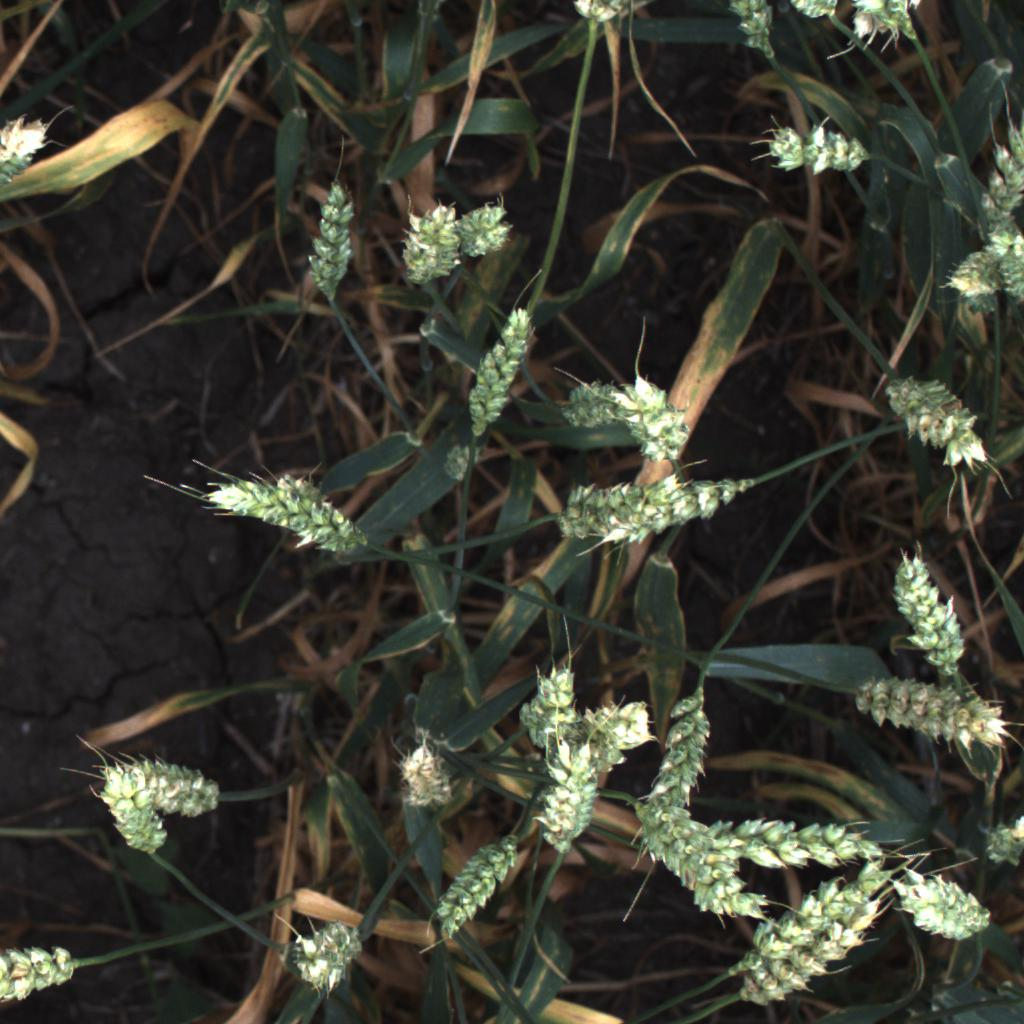0-0: (720, 865, 890, 985), (840, 663, 1022, 766), (633, 797, 766, 921), (739, 898, 881, 1012), (407, 821, 530, 945), (604, 469, 766, 549), (197, 476, 369, 551), (879, 540, 969, 680), (457, 296, 542, 440), (548, 471, 700, 551), (883, 367, 992, 471), (641, 679, 720, 812), (377, 727, 473, 827), (537, 734, 603, 865), (301, 169, 361, 308), (391, 180, 463, 291), (894, 868, 994, 946), (735, 819, 885, 869), (511, 660, 584, 761), (581, 685, 666, 769), (277, 923, 365, 1004), (108, 755, 220, 818), (556, 371, 654, 440), (98, 771, 170, 858), (0, 939, 85, 1009), (627, 375, 700, 456), (975, 124, 1024, 242), (765, 122, 871, 175), (0, 111, 55, 197), (944, 234, 1003, 310), (852, 0, 931, 54), (459, 191, 516, 265), (727, 0, 777, 60), (982, 813, 1024, 872), (439, 444, 482, 485), (566, 0, 636, 25), (997, 243, 1024, 303), (790, 0, 838, 22)
